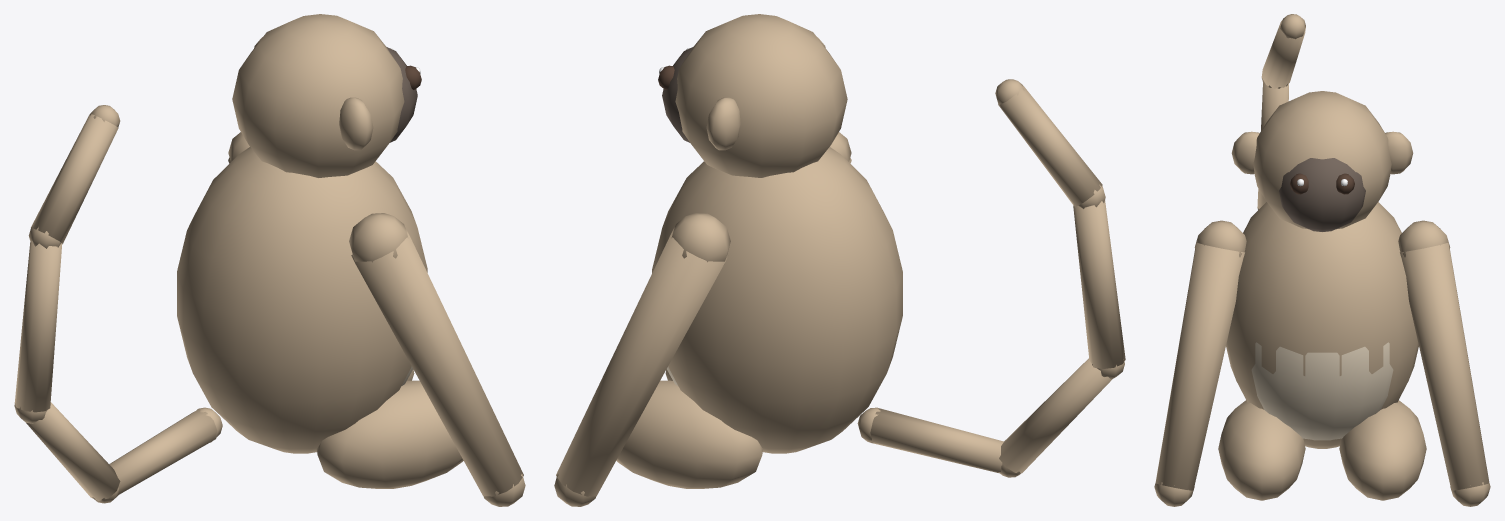
Rendered from geoffroys-spider-monkey.glb.
3 views of the same model, side by side, from view 1: azimuth 30°, elevation 25°; view 2: azimuth 150°, elevation 25°; view 3: azimuth 270°, elevation 25° (orthographic). The views are drawn at different scales.
Parts seen in each view (by area): view 1: e.008, e, e.016; view 2: e.008, e, e.016; view 3: e.008, e, e.016.
Boxes of the visible parts, x1,y1,x2,y2 form: e.008: (177,132,525,506); e: (232,14,421,177); e.016: (14,105,222,503); e.008: (554,132,902,506); e: (658,14,847,177); e.016: (857,79,1125,477); e.008: (1154,202,1490,506); e: (1231,91,1413,231); e.016: (1257,14,1305,209).
Bounding box in the file's own units: 1.33 × 1.22 × 1.
